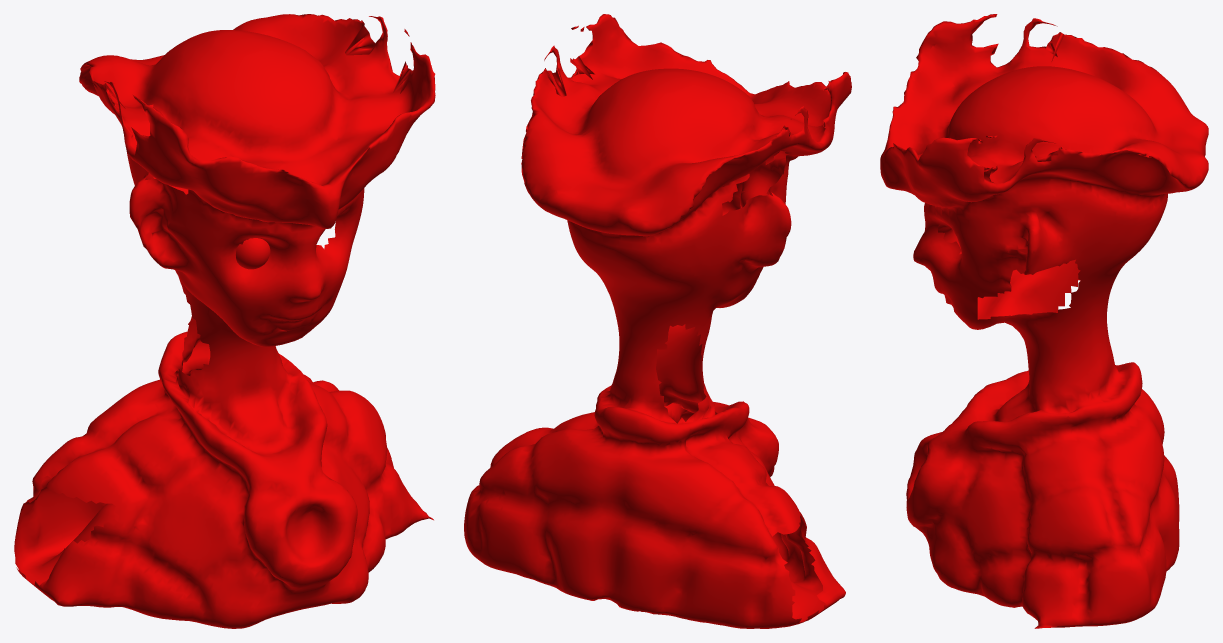
The model's file is statue-SP.fbx.
The picture shows the model from 3 angles, left to right: view 1: azimuth 30°, elevation 25°; view 2: azimuth 150°, elevation 25°; view 3: azimuth 270°, elevation 25°; orthographic projection. The views are drawn at different scales.
Visible parts, largest first — view 1: pSphere2; view 2: pSphere2; view 3: pSphere2.
Boxes of the visible parts, x1=… form: pSphere2: x1=14, y1=14, x2=435, y2=628; pSphere2: x1=464, y1=14, x2=851, y2=628; pSphere2: x1=880, y1=14, x2=1208, y2=628.
Size of the model in its own units: 3.06 by 4.21 by 2.56.
